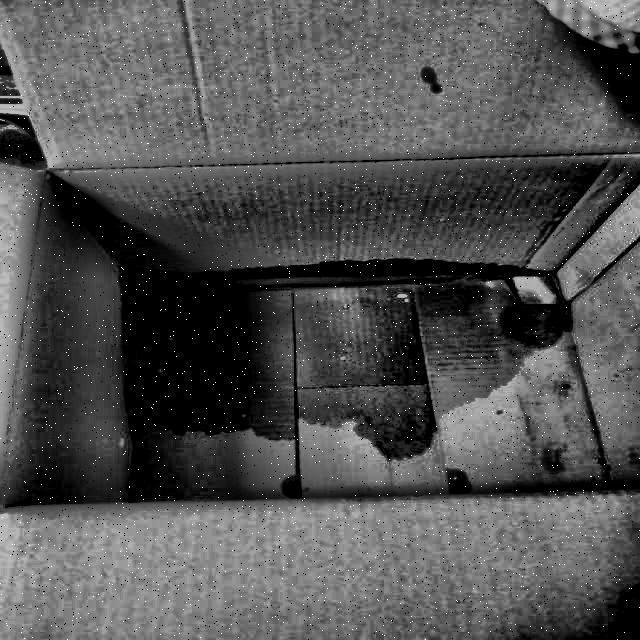box: (0, 0, 640, 640)
wet: (113, 259, 589, 459)
